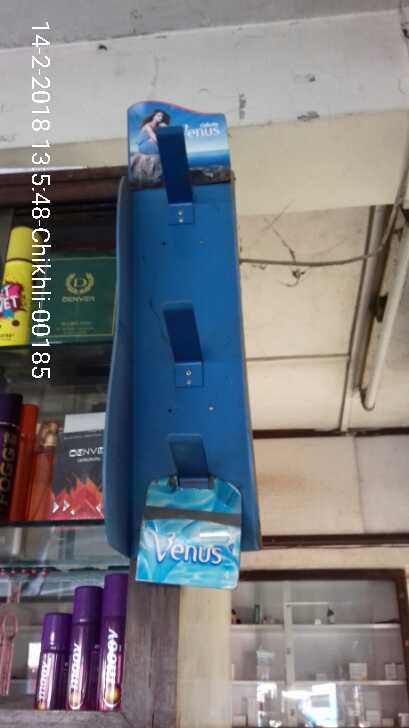venus: (139, 478, 246, 588)
